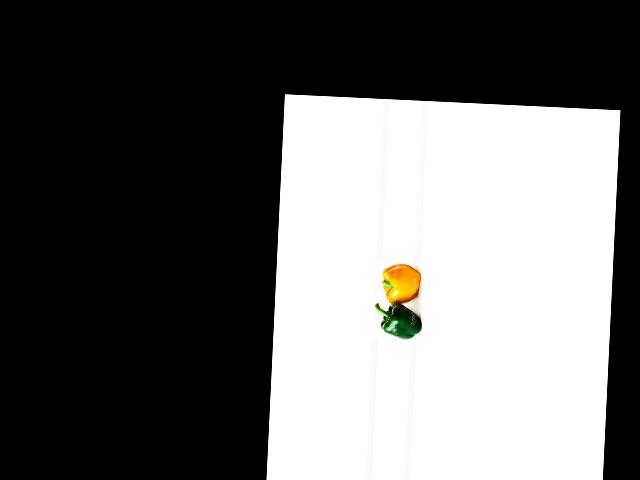bell_pepper: (377, 302, 428, 343)
